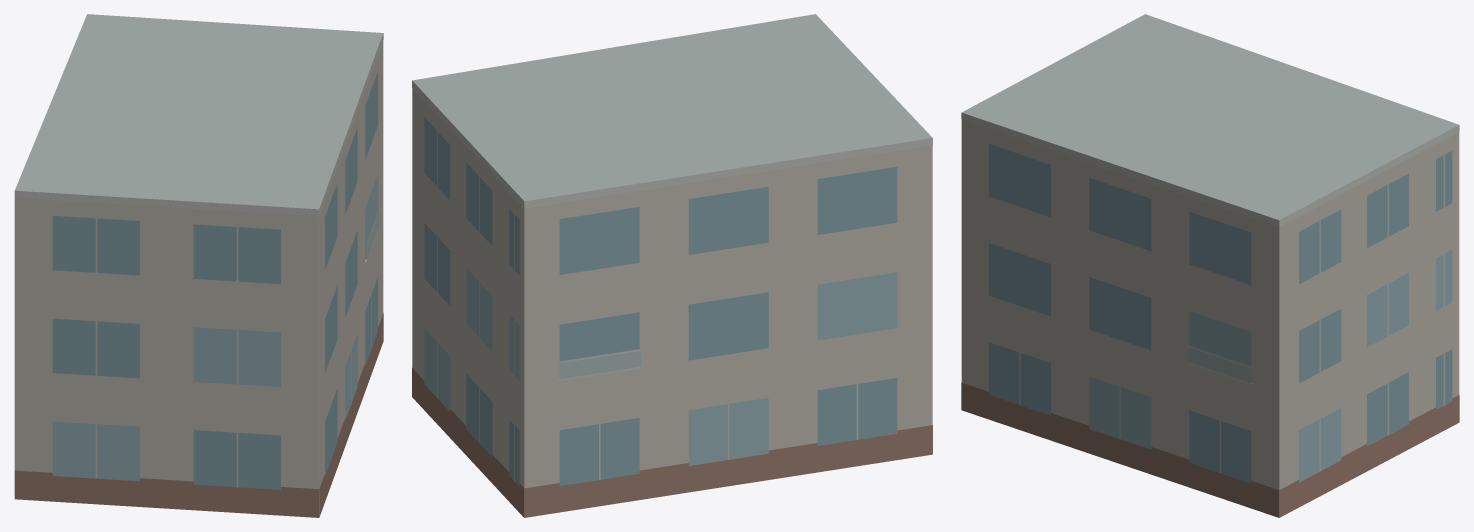
Rendered from survey-upis-32682983.glb.
The picture shows the model from 3 angles, left to right: view 1: azimuth 30°, elevation 25°; view 2: azimuth 150°, elevation 25°; view 3: azimuth 270°, elevation 25°; orthographic projection. The views are drawn at different scales.
Visible parts, largest first — view 1: survey-upis-32682983.tmp; view 2: survey-upis-32682983.tmp; view 3: survey-upis-32682983.tmp.
Part boxes in pixels (x1,y1,x2,y2): survey-upis-32682983.tmp: (14, 14, 383, 517); survey-upis-32682983.tmp: (412, 14, 932, 517); survey-upis-32682983.tmp: (961, 14, 1459, 517).
Size of the model in its own units: 15.61 by 10.5 by 15.93.
